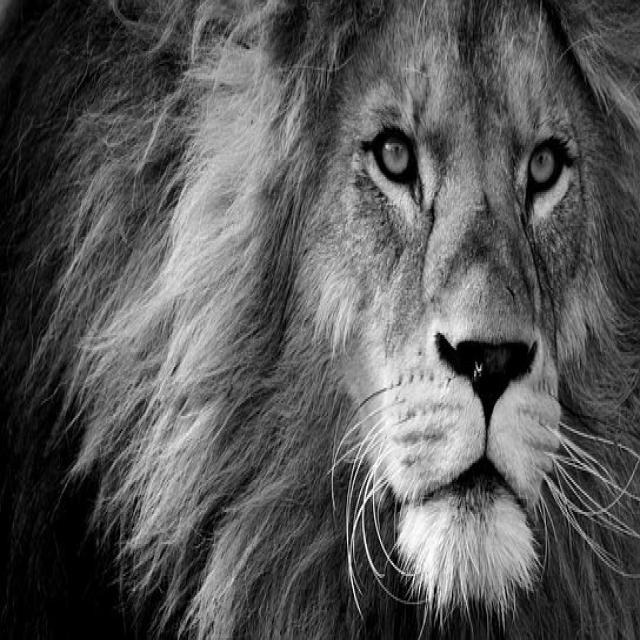Lion: (298, 4, 614, 638)
